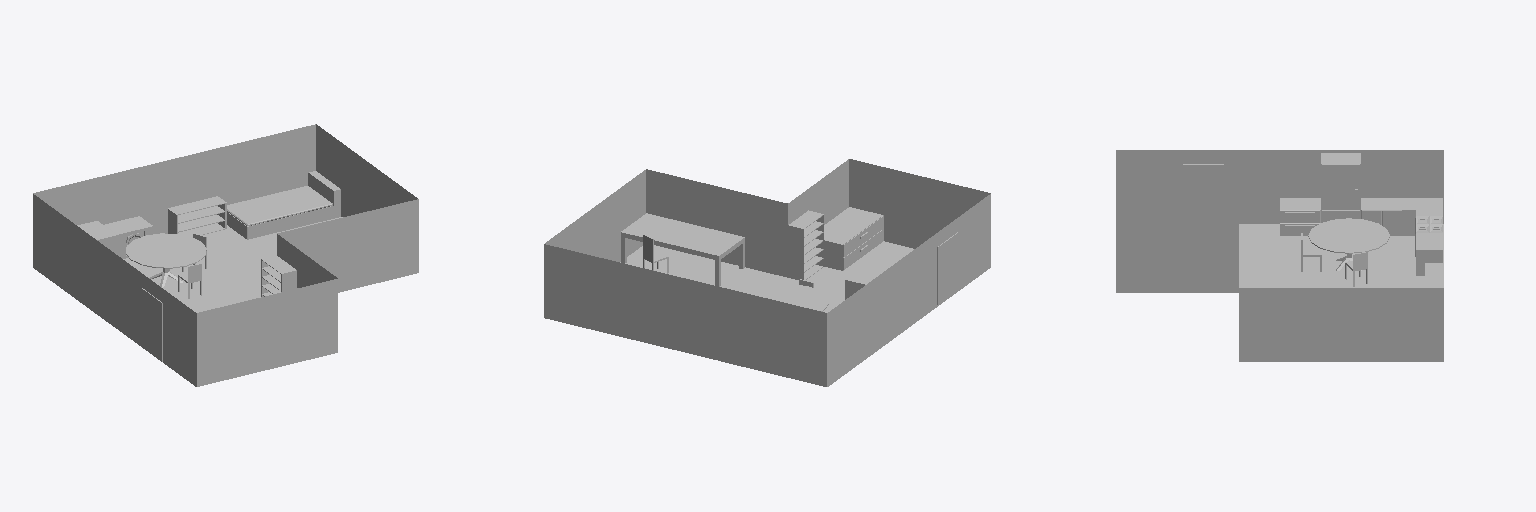
Rendered from House.obj.
The picture shows the model from 3 angles: view 1: azimuth 30°, elevation 25°; view 2: azimuth 150°, elevation 25°; view 3: azimuth 270°, elevation 25°; orthographic projection.
Visible parts, largest first — view 1: Плоскость, Плоскость.001, Окружность.001, Куб.004, Куб_Куб.008, Плоскость.002, Куб.003; view 2: Плоскость, Куб.001, Куб.002, Куб.003, Плоскость.002, Окружность.001, Куб_Куб.008; view 3: Плоскость, Куб_Куб.008, Окружность.001, Плоскость.002.
Part boxes in pixels (x1,y1,x2,y2): Плоскость: (33,124,418,386); Плоскость.001: (227,171,340,239); Окружность.001: (126,233,206,287); Куб.004: (168,196,226,236); Куб_Куб.008: (35,216,152,321); Плоскость.002: (142,288,162,361); Куб.003: (261,255,296,296); Плоскость: (544,159,990,386); Куб.001: (621,213,744,286); Куб.002: (824,207,883,270); Куб.003: (788,210,823,279); Плоскость.002: (937,232,958,305); Окружность.001: (752,284,828,311); Куб_Куб.008: (721,265,906,386); Плоскость: (1116,150,1443,361); Куб_Куб.008: (1280,153,1442,275); Окружность.001: (1308,218,1389,270); Плоскость.002: (1183,164,1223,218).
Bounding box in the file's own units: 8.02 × 2.01 × 8.